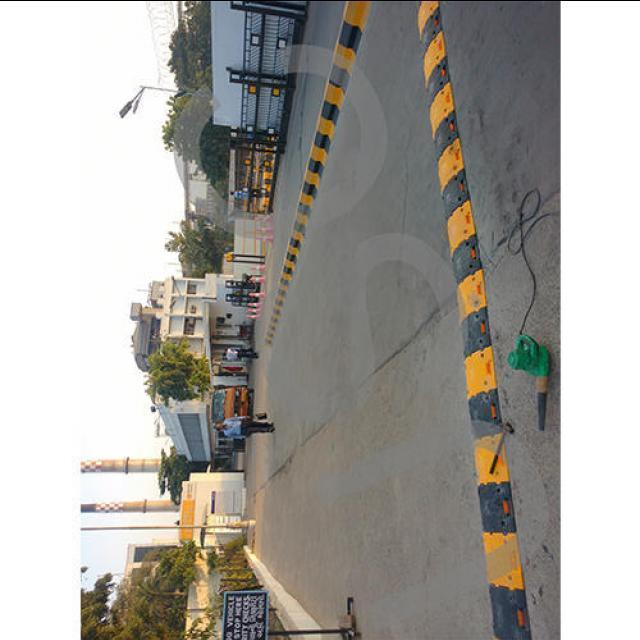speedbreaker: (419, 0, 526, 640)
